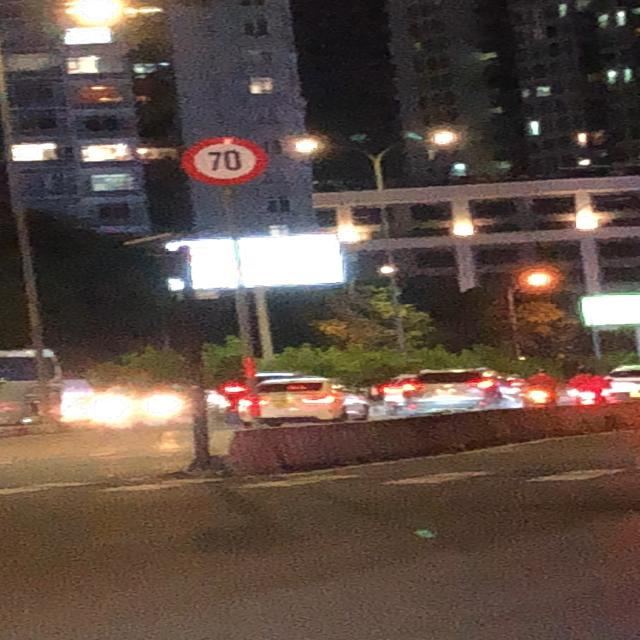Bien bao toc do toi da cho phep: (170, 131, 280, 182)
